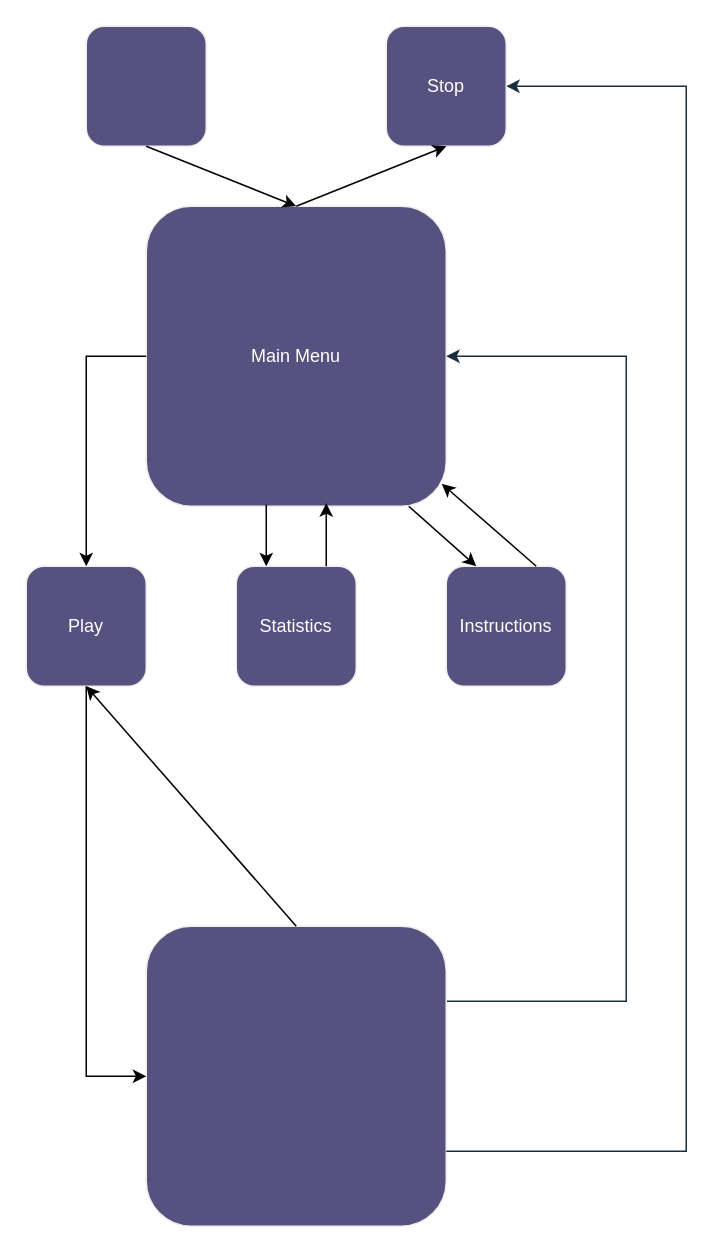
The diagram is 725 pixels wide and 1253 high, and some of its shapes have lost their labels. Each missing label, with the centre of its shape:
"Game Over" belongs at pixel 295 1075.
"Start" belongs at pixel 145 85.
